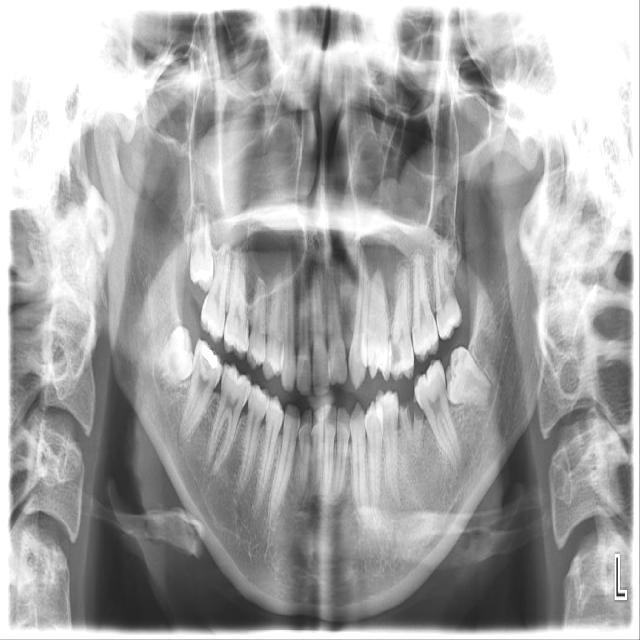Caries: (389, 337, 402, 371)
Filling: (199, 343, 224, 370)
Root Piece: (399, 401, 425, 454)
impacted tooth: (446, 346, 498, 404), (154, 328, 194, 389), (190, 205, 214, 292)
